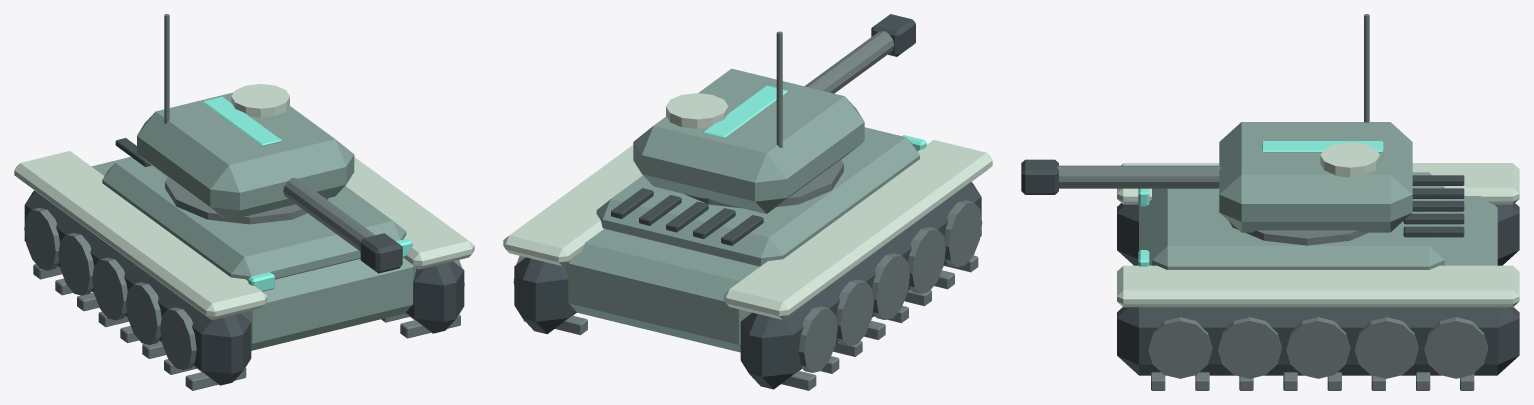
The model's file is tank.glb.
The picture shows the model from 3 angles, left to right: view 1: azimuth 30°, elevation 25°; view 2: azimuth 150°, elevation 25°; view 3: azimuth 270°, elevation 25°; orthographic projection. The views are drawn at different scales.
Parts seen in each view (by area): view 1: TurretArmor, UpperHull, Fender, LowerHull, TrackBelt, Fender.001, TrackBelt.001, GunBarrel, RoadWheel, RoadWheel.001, RoadWheel.004, RoadWheel.002 (+8 smaller); view 2: TurretArmor, LowerHull, Fender, UpperHull, TrackBelt, Fender.001, TrackBelt.001, GunBarrel, RoadWheel.004, RoadWheel, RoadWheel.003, RoadWheel.002 (+13 smaller); view 3: TurretArmor, Fender.001, UpperHull, TrackBelt.001, GunBarrel, LowerHull, Fender, RoadWheel.005, RoadWheel.008, RoadWheel.006, RoadWheel.007, RoadWheel.009 (+11 smaller).
Part boxes in pixels (<box>): TurretArmor: <box>137,92,354,222</box>; UpperHull: <box>102,158,406,280</box>; Fender: <box>14,151,267,319</box>; LowerHull: <box>91,157,416,350</box>; TrackBelt: <box>24,190,251,385</box>; Fender.001: <box>345,157,474,269</box>; TrackBelt.001: <box>405,261,464,333</box>; GunBarrel: <box>283,178,374,251</box>; RoadWheel: <box>160,307,196,369</box>; RoadWheel.001: <box>126,282,161,344</box>; RoadWheel.004: <box>24,208,59,270</box>; RoadWheel.002: <box>92,257,127,320</box>; TurretArmor: <box>633,68,864,213</box>; LowerHull: <box>564,229,759,352</box>; Fender: <box>723,140,992,319</box>; UpperHull: <box>596,127,919,266</box>; TrackBelt: <box>740,182,981,389</box>; Fender.001: <box>503,145,642,265</box>; TrackBelt.001: <box>514,257,576,334</box>; GunBarrel: <box>804,31,894,93</box>; RoadWheel.004: <box>798,306,837,372</box>; RoadWheel: <box>944,200,982,266</box>; RoadWheel.003: <box>836,279,873,346</box>; RoadWheel.002: <box>872,253,909,319</box>; TurretArmor: <box>1219,122,1412,232</box>; Fender.001: <box>1117,265,1519,307</box>; UpperHull: <box>1152,172,1444,269</box>; TrackBelt.001: <box>1117,307,1519,375</box>; GunBarrel: <box>1057,165,1220,188</box>; LowerHull: <box>1139,196,1497,265</box>; Fender: <box>1117,163,1519,204</box>; RoadWheel.005: <box>1148,317,1212,378</box>; RoadWheel.008: <box>1354,317,1418,378</box>; RoadWheel.006: <box>1217,317,1281,378</box>; RoadWheel.007: <box>1286,317,1350,378</box>; RoadWheel.009: <box>1424,317,1487,378</box>.
Size of the model in its own units: 2.9 by 2.83 by 4.52.
